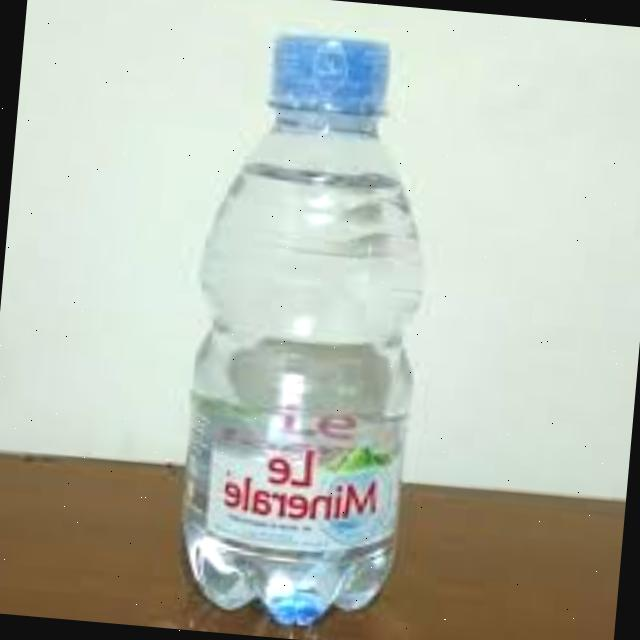trash: (165, 18, 452, 636)
